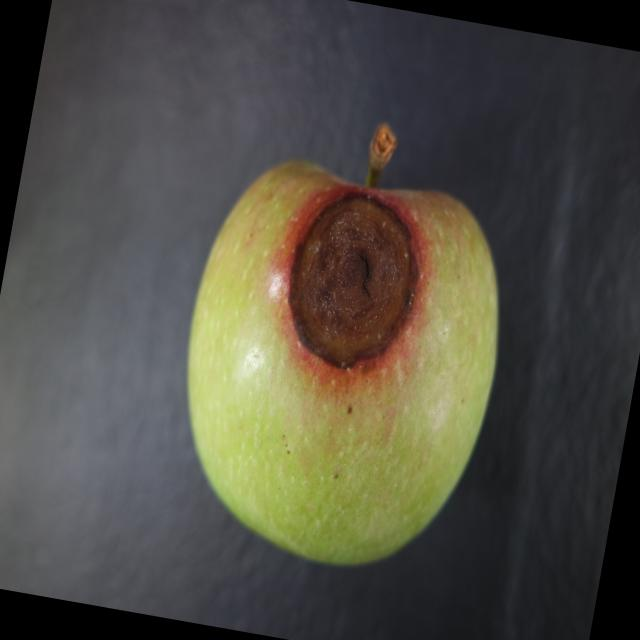rotten: (142, 132, 543, 608)
